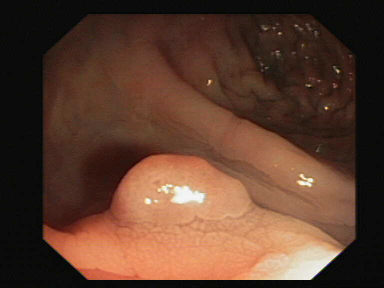polyp: (107, 125, 271, 243)
